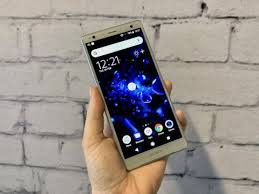sony: (80, 15, 188, 173)
